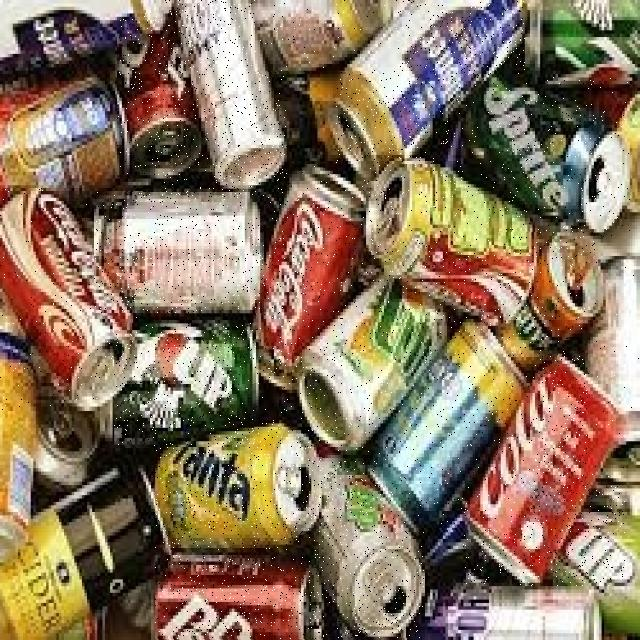metal: (253, 161, 538, 454), (463, 357, 625, 586), (335, 0, 525, 175), (374, 323, 529, 530), (0, 188, 143, 410), (363, 162, 537, 333), (463, 78, 630, 236), (163, 0, 287, 192), (94, 192, 263, 313), (156, 428, 322, 550), (315, 462, 424, 638), (115, 324, 254, 446), (499, 233, 606, 372), (118, 14, 204, 177), (156, 556, 322, 639), (589, 260, 639, 486), (255, 0, 396, 72)
